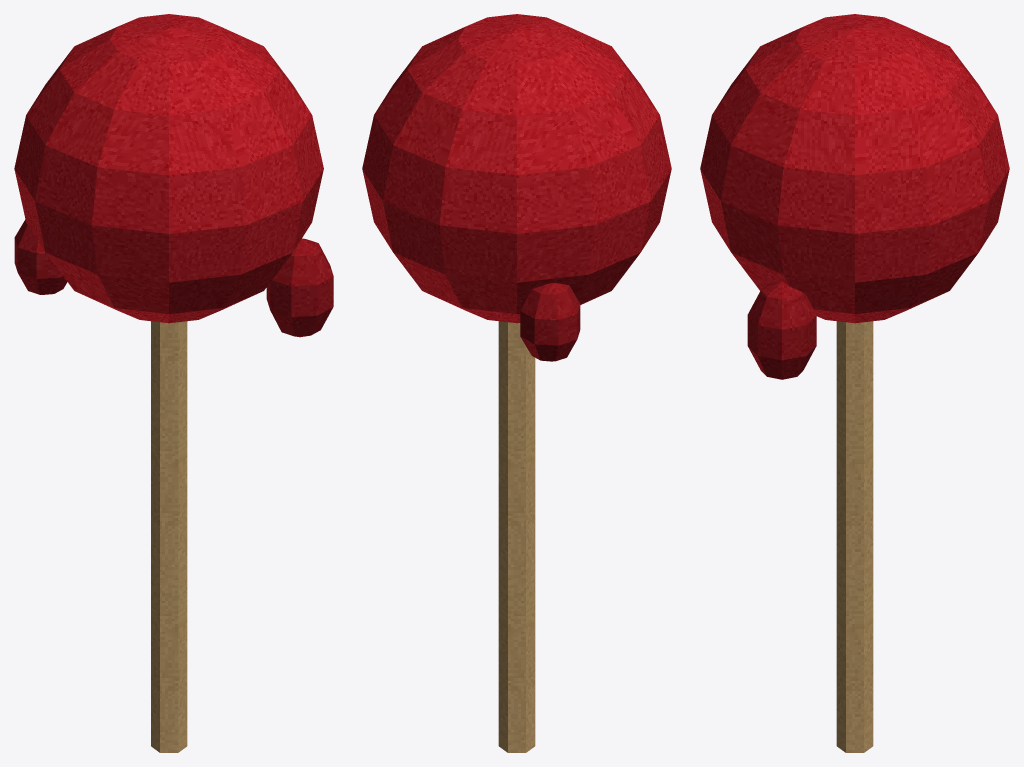
3 renders of one model, left to right at view 1: azimuth 30°, elevation 25°; view 2: azimuth 150°, elevation 25°; view 3: azimuth 270°, elevation 25°, orthographic.
Parts seen in each view (by area): view 1: candy_apple; view 2: candy_apple; view 3: candy_apple.
Boxes of the visible parts, x1,y1,x2,y2 form: candy_apple: [14, 14, 333, 752]; candy_apple: [362, 14, 671, 752]; candy_apple: [700, 14, 1009, 752].
Bounding box in the file's own units: 0.085 × 0.2175 × 0.085.
3 materials, 3 textured.
